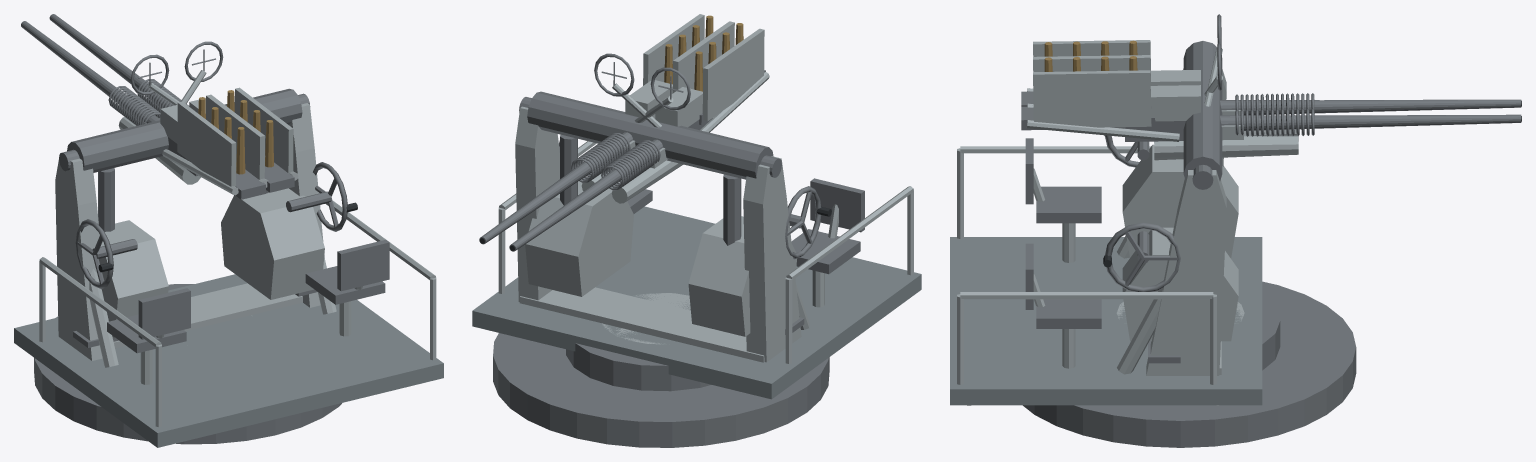
3 renders of one model, left to right at view 1: azimuth 30°, elevation 25°; view 2: azimuth 150°, elevation 25°; view 3: azimuth 270°, elevation 25°, orthographic. The views are drawn at different scales.
Visible parts, largest first — view 1: component.yaw.mesh, component.left.recoil.mesh, component.right.recoil.mesh, component.base.mesh, component.left.elevation.mesh, component.right.elevation.mesh; view 2: component.yaw.mesh, component.base.mesh, component.left.recoil.mesh, component.right.recoil.mesh, component.left.elevation.mesh, component.right.elevation.mesh; view 3: component.yaw.mesh, component.base.mesh, component.right.recoil.mesh, component.left.recoil.mesh, component.right.elevation.mesh.
Part boxes in pixels (x1,y1,x2,y2): component.yaw.mesh: (14, 88, 443, 447); component.left.recoil.mesh: (21, 21, 268, 199); component.right.recoil.mesh: (49, 14, 298, 192); component.base.mesh: (34, 284, 341, 444); component.left.elevation.mesh: (143, 41, 223, 123); component.right.elevation.mesh: (130, 54, 179, 105); component.yaw.mesh: (472, 91, 921, 399); component.base.mesh: (493, 333, 829, 447); component.left.recoil.mesh: (509, 21, 769, 251); component.right.recoil.mesh: (479, 14, 733, 244); component.left.elevation.mesh: (594, 53, 667, 168); component.right.elevation.mesh: (615, 67, 690, 156); component.yaw.mesh: (950, 41, 1280, 405); component.base.mesh: (1023, 281, 1356, 447); component.right.recoil.mesh: (1021, 55, 1521, 160); component.left.recoil.mesh: (1021, 40, 1521, 136); component.right.elevation.mesh: (1204, 14, 1243, 140).
Size of the model in its own units: 2.42 by 2.54 by 3.84.
